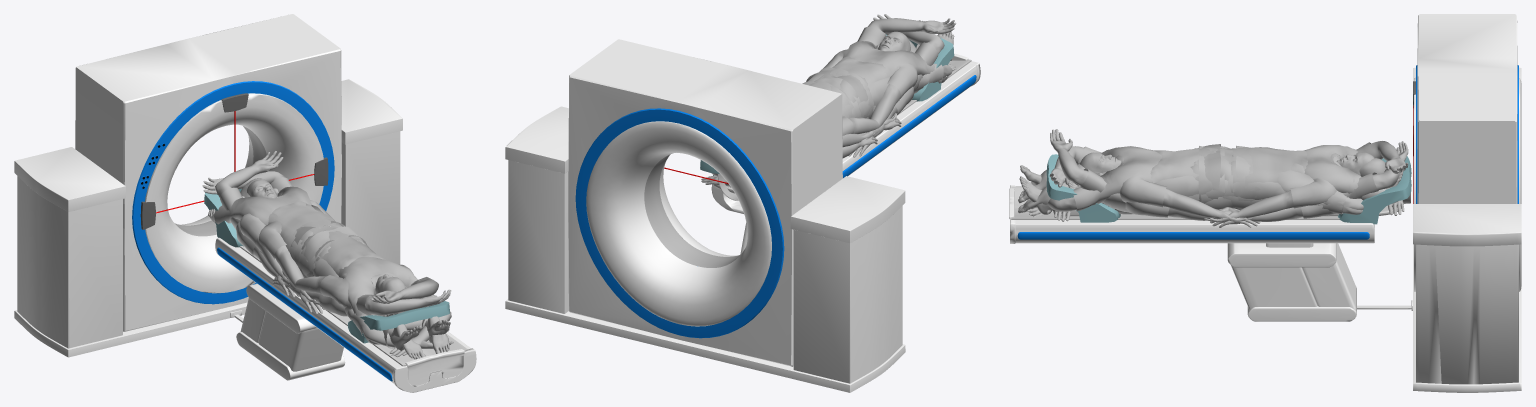
File: Tom.glb
The picture shows the model from 3 angles, left to right: view 1: azimuth 30°, elevation 25°; view 2: azimuth 150°, elevation 25°; view 3: azimuth 270°, elevation 25°; orthographic projection. The views are drawn at different scales.
Visible parts, largest first — view 1: SM_MRI_tilt.001, SM_MRI_base, SM_MRI_bed_upDown.001, M3_Basemesh_geo.001, SM_MRI_bed_inOut.001, scrubShirt_geo5, M3_Basemesh_geo, scrubShirt_geo9, M3_Basemesh_geo8, SM_head_arm_rest1.001, scrubShirt_geo1, M3_Basemesh_geo3 (+13 smaller); view 2: SM_MRI_tilt.001, SM_MRI_base, SM_MRI_bed_upDown.001, M3_Basemesh_geo.001, scrubShirt_geo5, scrubShirt_geo1.001, scrubShirt_geo6, scrubShirt_geo3.001, SM_head_arm_rest1.001, M3_Basemesh_geo6, scrubShirt_geo2.001, M3_Basemesh_geo8; view 3: SM_MRI_base, SM_MRI_tilt.001, SM_MRI_bed_upDown.001, M3_Basemesh_geo.001, scrubShirt_geo9, M3_Basemesh_geo, scrubShirt_geo7, scrubShirt_geo5, SM_head_arm_rest1, scrubShirt_geo6, SM_head_arm_rest1.001, scrubShirt_geo10 (+17 smaller).
Boxes of the visible parts, <box> form: SM_MRI_tilt.001: <box>75,14,341,331</box>; SM_MRI_base: <box>14,79,402,380</box>; SM_MRI_bed_upDown.001: <box>215,237,476,392</box>; M3_Basemesh_geo.001: <box>365,274,451,315</box>; SM_MRI_bed_inOut.001: <box>239,246,467,386</box>; scrubShirt_geo5: <box>303,231,428,335</box>; M3_Basemesh_geo: <box>202,151,285,198</box>; scrubShirt_geo9: <box>214,186,344,247</box>; M3_Basemesh_geo8: <box>274,245,449,359</box>; SM_head_arm_rest1.001: <box>348,301,449,343</box>; scrubShirt_geo1: <box>220,177,336,258</box>; M3_Basemesh_geo3: <box>282,270,450,350</box>; SM_MRI_tilt.001: <box>568,39,842,366</box>; SM_MRI_base: <box>505,106,905,392</box>; SM_MRI_bed_upDown.001: <box>711,61,980,213</box>; M3_Basemesh_geo.001: <box>868,14,956,53</box>; scrubShirt_geo5: <box>806,41,942,102</box>; scrubShirt_geo1.001: <box>825,26,938,105</box>; scrubShirt_geo6: <box>818,49,917,99</box>; scrubShirt_geo3.001: <box>828,58,943,103</box>; SM_head_arm_rest1.001: <box>886,34,954,101</box>; M3_Basemesh_geo6: <box>727,84,900,186</box>; scrubShirt_geo2.001: <box>822,58,914,114</box>; M3_Basemesh_geo8: <box>848,59,952,133</box>; SM_MRI_base: <box>1227,67,1521,392</box>; SM_MRI_tilt.001: <box>1413,14,1521,291</box>; SM_MRI_bed_upDown.001: <box>1010,185,1374,247</box>; M3_Basemesh_geo.001: <box>1049,129,1403,205</box>; scrubShirt_geo9: <box>1236,145,1385,209</box>; M3_Basemesh_geo: <box>1062,141,1408,189</box>; scrubShirt_geo7: <box>1245,147,1336,218</box>; scrubShirt_geo5: <box>1074,144,1220,202</box>; SM_head_arm_rest1: <box>1338,156,1411,224</box>; scrubShirt_geo6: <box>1119,144,1220,207</box>; SM_head_arm_rest1.001: <box>1046,154,1120,222</box>; scrubShirt_geo10: <box>1236,146,1336,208</box>.
Size of the model in its own units: 2.3 by 1.53 by 2.95.
Materials: 1 (1 with a texture image).
